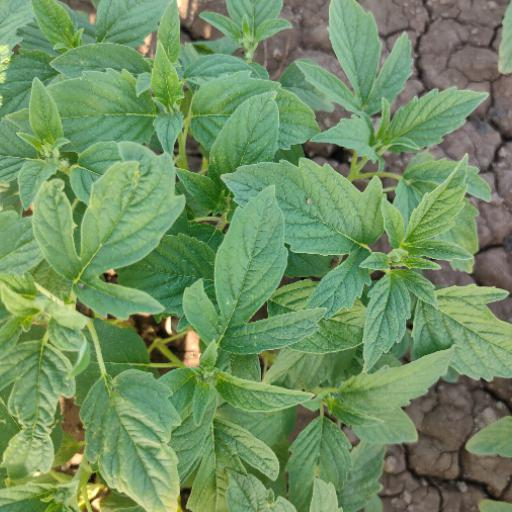crop: (11, 16, 488, 486)
